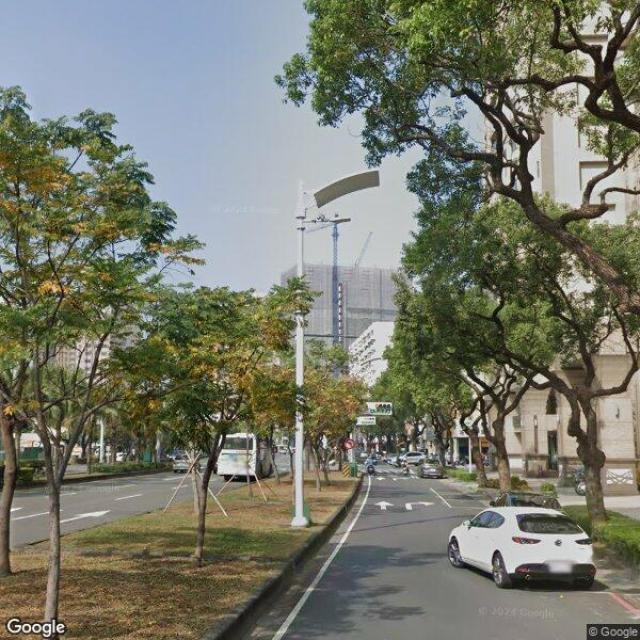illegalparking: (443, 510, 621, 594), (226, 429, 294, 477)
